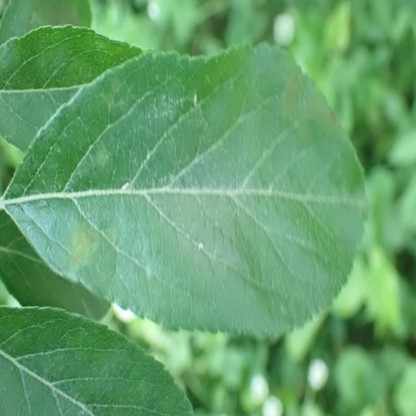powdery_mildew: (148, 95, 187, 120), (159, 168, 197, 193)
scab: (282, 67, 342, 141), (68, 225, 100, 273), (105, 77, 120, 106), (97, 149, 113, 168), (107, 233, 114, 242)
